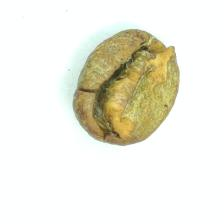NG: (100, 39, 176, 138)
